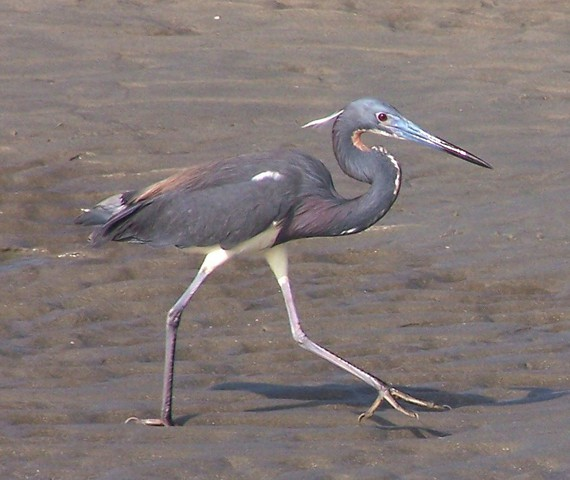heron: (76, 93, 497, 433)
